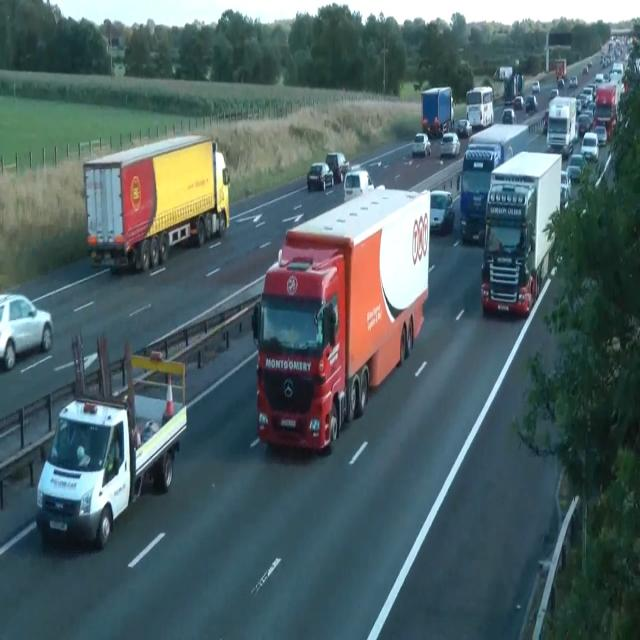bus: (0, 292, 53, 370), (428, 189, 454, 234), (344, 169, 374, 202), (306, 162, 334, 191), (565, 154, 587, 182), (440, 132, 460, 158), (411, 132, 431, 156), (560, 170, 571, 212), (577, 112, 593, 139), (456, 118, 472, 138), (594, 125, 608, 146), (524, 93, 538, 113), (502, 108, 516, 124), (542, 110, 548, 134), (514, 95, 524, 109), (549, 88, 559, 101), (569, 75, 578, 87), (532, 80, 540, 92), (557, 77, 565, 87), (582, 66, 588, 74), (587, 61, 592, 68)
jeep: (325, 151, 349, 183)
minibus: (251, 185, 431, 454), (35, 332, 187, 550), (82, 133, 230, 273), (480, 150, 562, 318), (460, 122, 530, 244), (546, 95, 578, 157), (420, 85, 454, 138), (592, 82, 618, 140), (465, 85, 494, 130), (503, 70, 523, 108), (555, 58, 567, 85)
